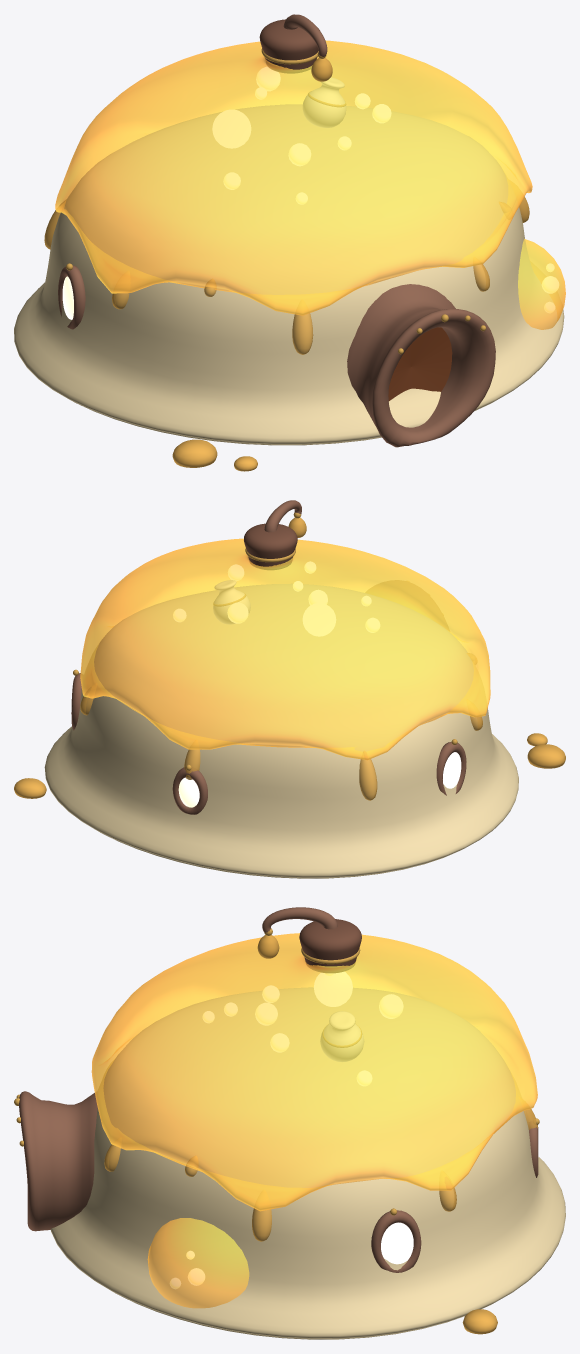
Rendered from house_02_0208.fbx.
The picture shows the model from 3 angles, top to bottom: view 1: azimuth 30°, elevation 25°; view 2: azimuth 150°, elevation 25°; view 3: azimuth 270°, elevation 25°; orthographic projection. The views are drawn at different scales.
Visible parts, largest first — view 1: House02_Body_Base, House02_Dome_JellyClear, House02_Entrance_Tunnel, House02_Blister_JellyClear, House02_Entrance_Shadow, House02_Top_Plug, House02_Float_Pot, House02_Float_Lamp, House02_Puddle_1, House02_WindowLip_L, House02_Drip_6, House02_Top_Sprout; view 2: House02_Body_Base, House02_Dome_JellyClear, House02_Top_Plug, House02_Float_Lamp, House02_WindowLip_Back, House02_Float_Pot, House02_Puddle_1, House02_WindowLip_L, House02_Drip_4, House02_Puddle_3, House02_Top_Sprout, House02_Window_L (+1 smaller); view 3: House02_Body_Base, House02_Dome_JellyClear, House02_Entrance_Tunnel, House02_Blister_JellyClear, House02_Top_Plug, House02_Float_Pot, House02_WindowLip_R, House02_Window_R, House02_Float_Lamp, House02_Top_Sprout, House02_Puddle_3, House02_Drip_1.
Boxes of the visible parts, <box> form: House02_Body_Base: <box>14,104,564,445</box>; House02_Dome_JellyClear: <box>55,40,532,315</box>; House02_Entrance_Tunnel: <box>347,284,495,447</box>; House02_Blister_JellyClear: <box>518,239,565,329</box>; House02_Entrance_Shadow: <box>388,327,452,401</box>; House02_Top_Plug: <box>259,19,319,73</box>; House02_Float_Pot: <box>303,77,345,127</box>; House02_Float_Lamp: <box>212,110,250,148</box>; House02_Puddle_1: <box>172,439,217,467</box>; House02_WindowLip_L: <box>58,265,85,329</box>; House02_Drip_6: <box>292,313,313,354</box>; House02_Top_Sprout: <box>283,14,327,56</box>; House02_Body_Base: <box>44,584,518,878</box>; House02_Dome_JellyClear: <box>80,538,490,760</box>; House02_Top_Plug: <box>244,523,297,569</box>; House02_Float_Lamp: <box>303,603,335,636</box>; House02_WindowLip_Back: <box>172,767,207,814</box>; House02_Float_Pot: <box>213,580,250,624</box>; House02_Puddle_1: <box>527,744,565,768</box>; House02_WindowLip_L: <box>436,742,466,795</box>; House02_Drip_4: <box>359,751,377,800</box>; House02_Puddle_3: <box>14,778,46,798</box>; House02_Top_Sprout: <box>264,500,301,532</box>; House02_Window_L: <box>443,752,461,788</box>; House02_Body_Base: <box>50,987,565,1339</box>; House02_Dome_JellyClear: <box>91,933,537,1211</box>; House02_Entrance_Tunnel: <box>19,1091,97,1231</box>; House02_Blister_JellyClear: <box>147,1218,249,1308</box>; House02_Top_Plug: <box>299,919,361,972</box>; House02_Float_Pot: <box>320,1011,364,1061</box>; House02_WindowLip_R: <box>371,1210,421,1272</box>; House02_Window_R: <box>381,1222,413,1264</box>; House02_Float_Lamp: <box>314,972,352,1006</box>; House02_Top_Sprout: <box>262,907,337,932</box>; House02_Puddle_3: <box>462,1309,497,1334</box>; House02_Drip_1: <box>252,1208,271,1241</box>.
Bounding box in the file's own units: 6.3 × 3.96 × 6.2.
